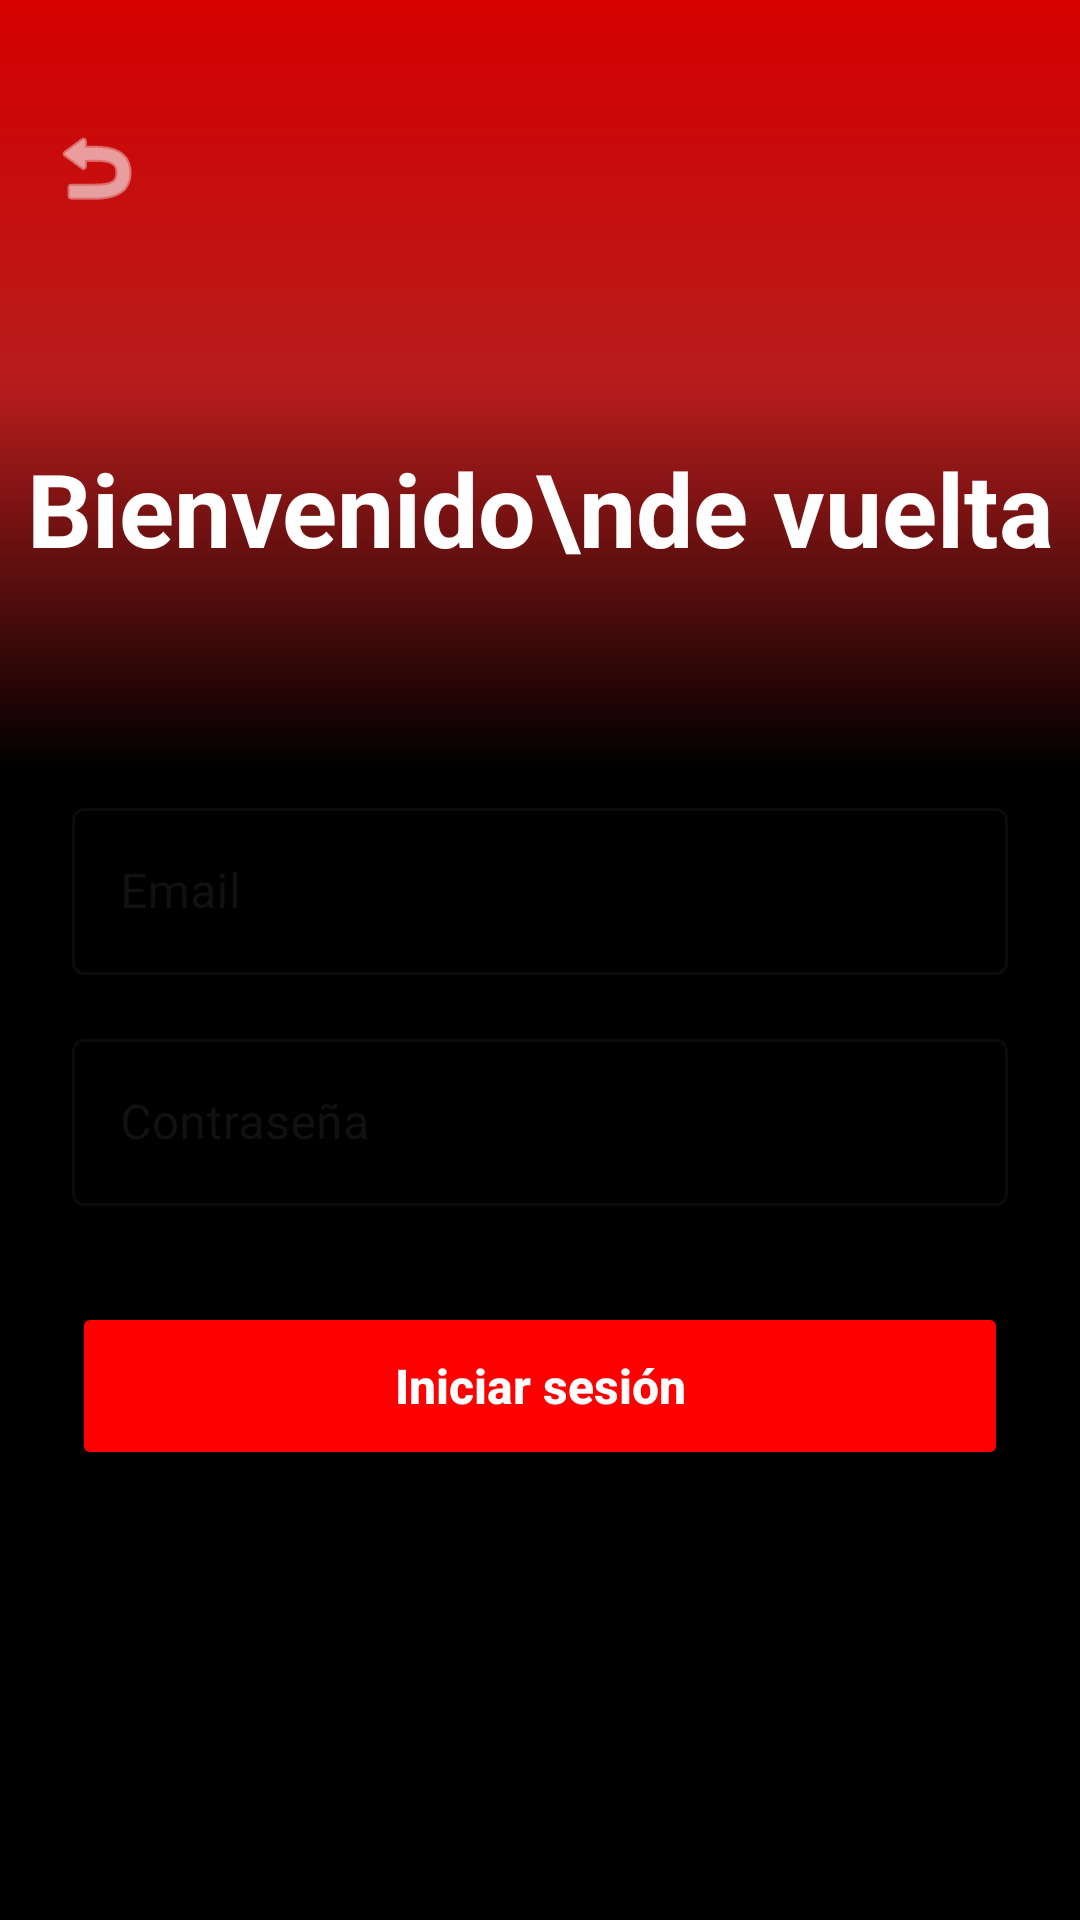

Screen size 1080 x 1920. Icon name, then its center in pixels as point (x, y):
Volver: point (97, 168)
